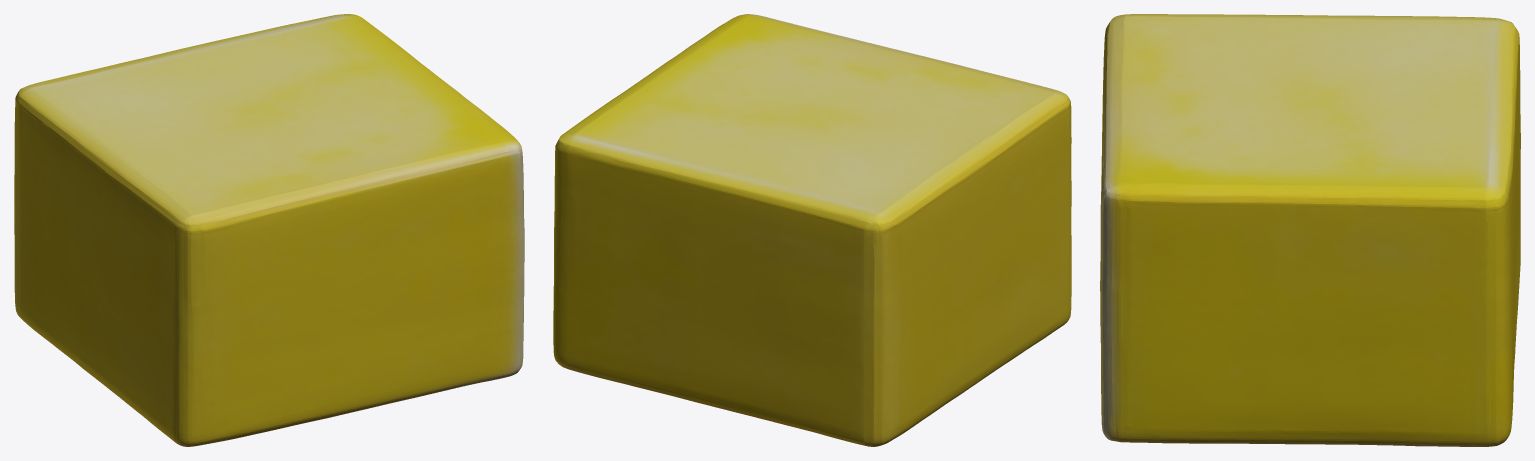
The model's file is obj1_sam3d_obb.glb.
3 renders of one model, left to right at view 1: azimuth 30°, elevation 25°; view 2: azimuth 150°, elevation 25°; view 3: azimuth 270°, elevation 25°, orthographic. The views are drawn at different scales.
Visible parts, largest first — view 1: world; view 2: world; view 3: world.
Boxes of the visible parts, box(x1,y1,x2,y2) form: world: box(14, 14, 524, 446); world: box(553, 14, 1071, 446); world: box(1100, 14, 1520, 446).
Size of the model in its own units: 0.0423 by 0.0267 by 0.0396.
